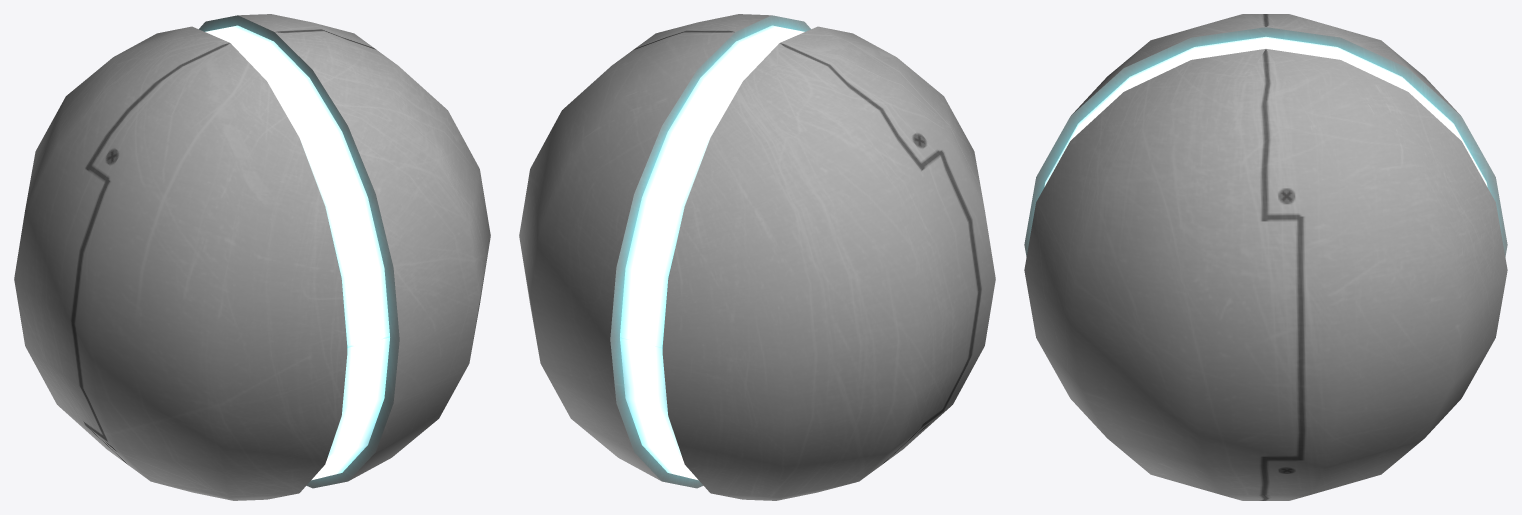
Rendered from TimeSphere.fbx.
3 renders of one model, left to right at view 1: azimuth 30°, elevation 25°; view 2: azimuth 150°, elevation 25°; view 3: azimuth 270°, elevation 25°, orthographic.
Visible parts, largest first — view 1: TimeSphere; view 2: TimeSphere; view 3: TimeSphere.
Boxes of the visible parts, bbox=[...] form: TimeSphere: bbox=[14, 14, 490, 500]; TimeSphere: bbox=[519, 14, 995, 500]; TimeSphere: bbox=[1024, 14, 1507, 500].
Bounding box in the file's own units: 199 × 209 × 208.
